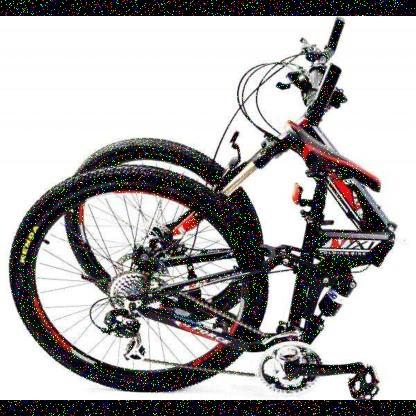Bicycle: (5, 15, 408, 409)
